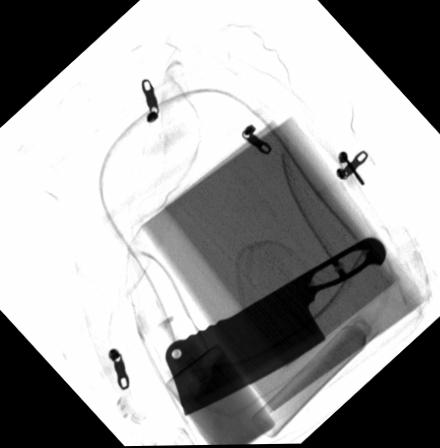Knife: (163, 236, 388, 416)
